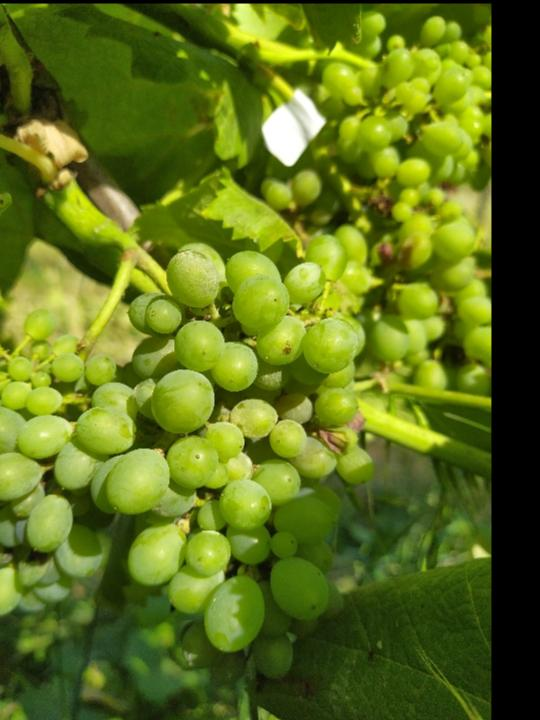grape: (0, 234, 379, 689)
